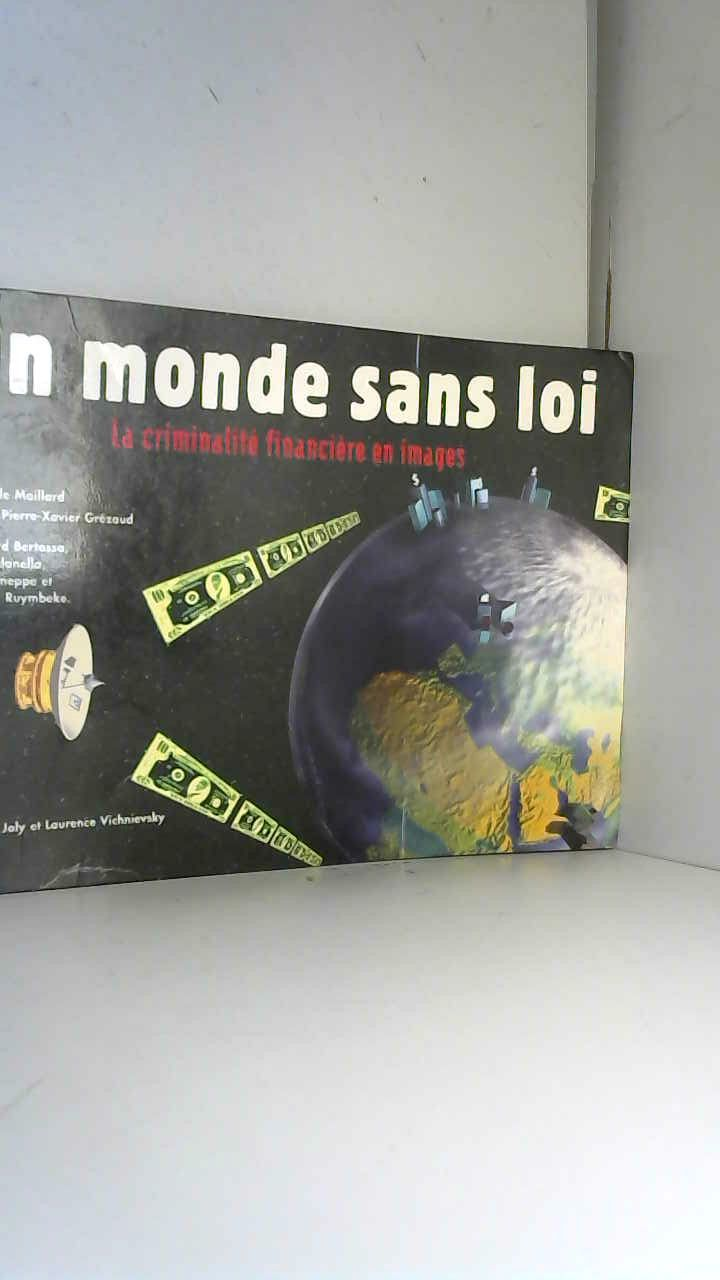book: (0, 261, 678, 913)
